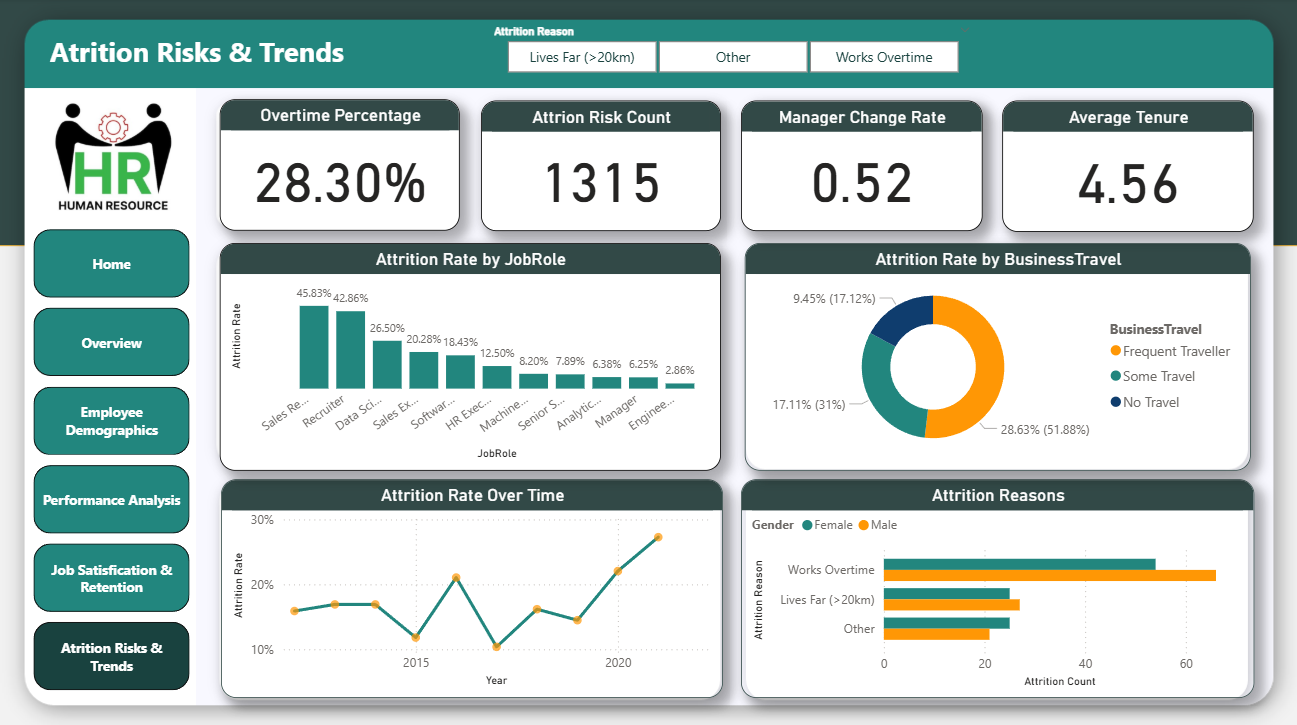

The page's visual inventory and layout, read from the dashboard file:
{"tool":"powerbi","page":{"name":"Atrition Risks & Trends","canvas":[1280,720],"ordinal":5},"visuals":[{"type":"clusteredBarChart","title":"Attrition Reasons","fields":{"Category":["Employee.Attrition Reason"],"Y":["_Measures.Attrition Count"],"Series":["Employee.Gender"]},"box":[730.1,471.2,503.1,214.7],"z":0},{"type":"lineChart","title":"Attrition Rate Over Time","fields":{"Y":["_Measures.Attrition Rate"],"Category":["Employee.Year"]},"box":[220,472,492,214],"z":1000},{"type":"donutChart","fields":{"Y":["_Measures.Attrition Rate"],"Category":["DimEmployee.BusinessTravel"]},"box":[733.7,240.5,495.7,223.3],"z":2000},{"type":"card","title":"Manager Change Rate","fields":{"Values":["_Measures.Manager Change Rate"]},"box":[730,100,236.7,128.3],"z":3000},{"type":"card","title":"Average Tenure","fields":{"Values":["_Measures.Average Tenure"]},"box":[986.5,100.6,246.6,128.8],"z":4000},{"type":"card","title":"Attrion Risk Count","fields":{"Values":["_Measures.Attrition Risk Count"]},"box":[475,100,235,128.3],"z":5000},{"type":"card","title":"Overtime Percentage","fields":{"Values":["_Measures.Overtime Percentage"]},"box":[219.6,99.4,235.6,128.8],"z":6000},{"type":"textbox","box":[47.9,29.4,320.2,50.3],"z":7000},{"type":"pageNavigator","box":[36.7,226.7,153.3,453.3],"z":8000},{"type":"slicer","fields":{"Values":["Employee.Attrition Reason"]},"box":[474.8,20.9,492,58.9],"z":9000},{"type":"image","box":[41.7,83.4,142.3,146],"z":10000},{"type":"columnChart","fields":{"Category":["DimEmployee.JobRole"],"Y":["_Measures.Attrition Rate"]},"box":[219.6,240.5,490.8,223.3],"z":11000}]}

Visuals, with their boxes in screenshot pixels (x1, y1, x2, y2), scaled from the page's 1280x720 canvas onto the 1297x725 screenshot:
"Attrition Reasons" clusteredBarChart: box=[740, 474, 1250, 691]
"Attrition Rate Over Time" lineChart: box=[223, 475, 721, 691]
donutChart - _Measures.Attrition Rate x DimEmployee.BusinessTravel: box=[743, 242, 1246, 467]
"Manager Change Rate" card: box=[740, 101, 980, 230]
"Average Tenure" card: box=[1000, 101, 1249, 231]
"Attrion Risk Count" card: box=[481, 101, 719, 230]
"Overtime Percentage" card: box=[223, 100, 461, 230]
textbox: box=[49, 30, 373, 80]
pageNavigator: box=[37, 228, 193, 685]
slicer - Employee.Attrition Reason: box=[481, 21, 980, 80]
image: box=[42, 84, 186, 231]
columnChart - DimEmployee.JobRole x _Measures.Attrition Rate: box=[223, 242, 720, 467]
